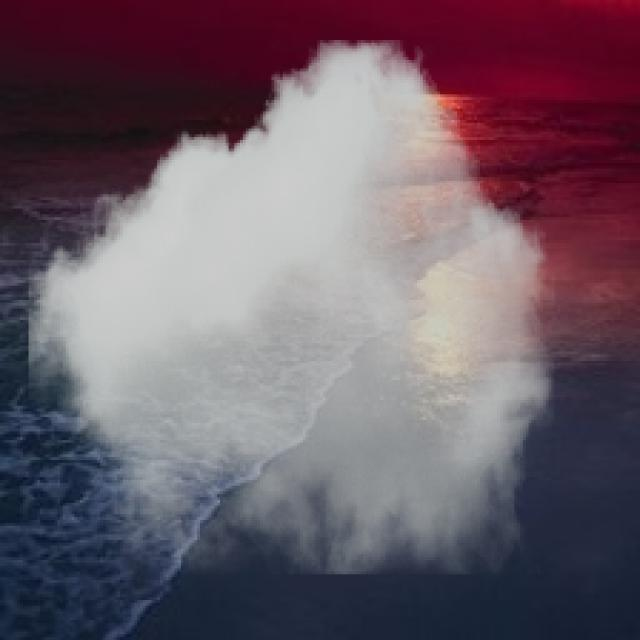smoke: (29, 40, 554, 574)
